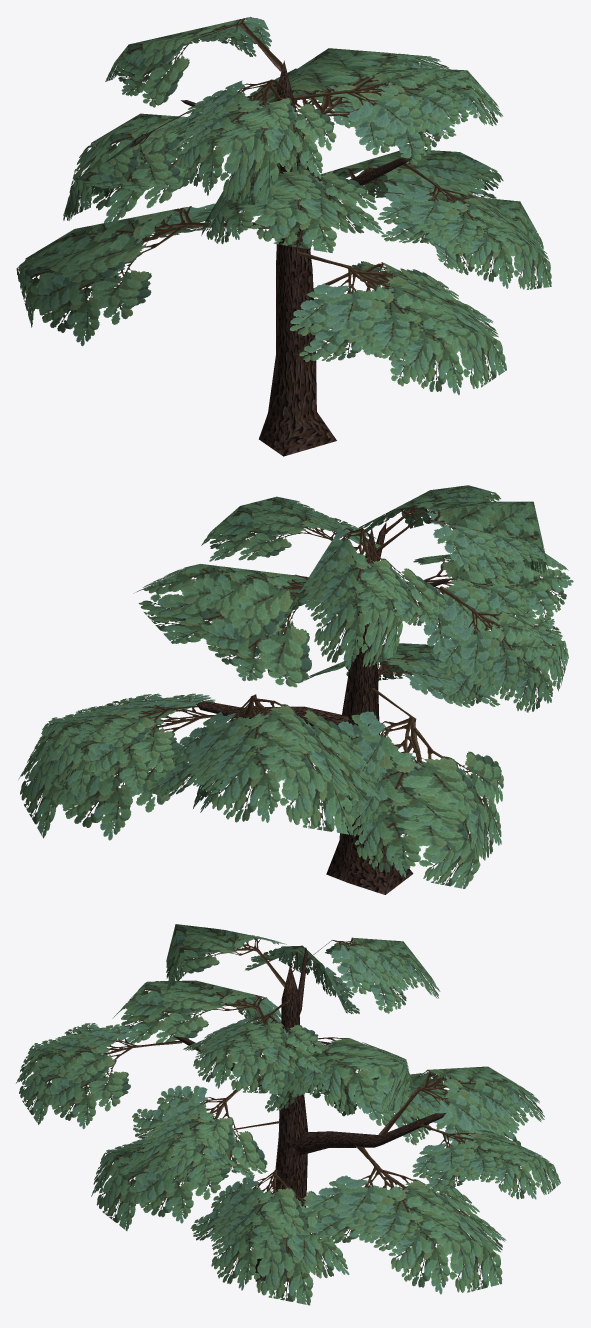
File: Maple02.fbx
The picture shows the model from 3 angles, top to bottom: view 1: azimuth 30°, elevation 25°; view 2: azimuth 150°, elevation 25°; view 3: azimuth 270°, elevation 25°; orthographic projection. The views are drawn at different scales.
Parts seen in each view (by area): view 1: Maple02; view 2: Maple02; view 3: Maple02.
Part boxes in pixels (box(x1,y1,x2,y2)): Maple02: box(16, 17, 551, 456); Maple02: box(18, 485, 573, 894); Maple02: box(16, 924, 560, 1305).
Size of the model in its own units: 1510 by 1125 by 1733.
